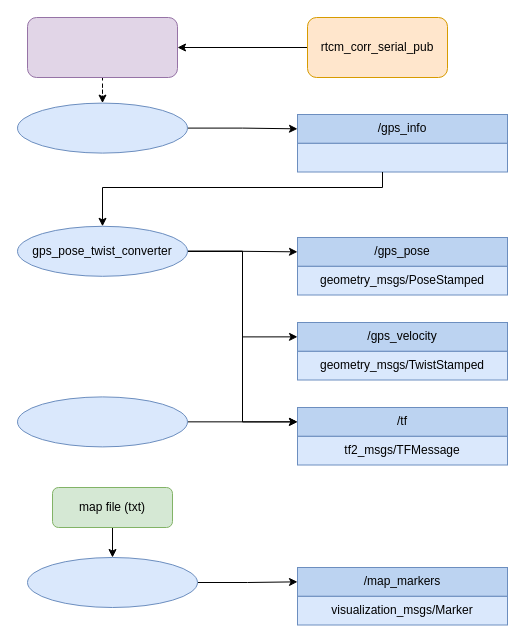
Image size: 525x643. Some labels were removed from this diagram. The centre of each missing label's shape, as x and y in pixels:
"GPS" belongs at pixel 102 47.
"map_marker_publisher" belongs at pixel 112 582.
"rtk_gps_serial_reader" belongs at pixel 102 127.
"self_racing_car_msgs/RmcNmea" belongs at pixel 402 157.
"tf_world_to_map" belongs at pixel 102 421.
